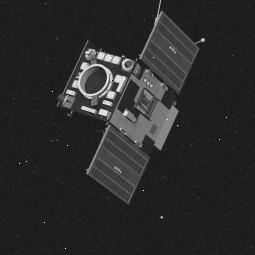proba_2: (42, 12, 202, 206)
